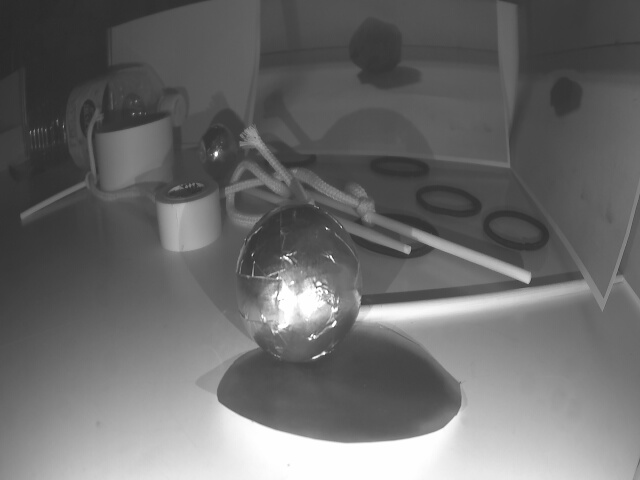Live: (236, 211, 362, 362), (197, 123, 240, 178)
